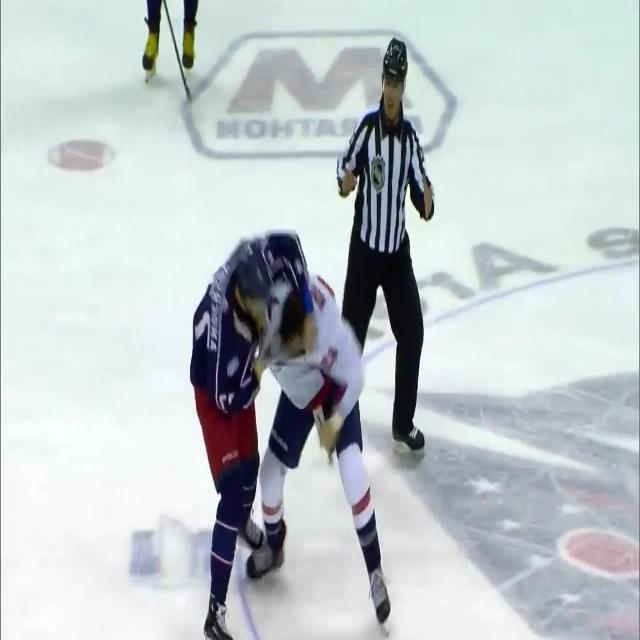non-violence: (338, 38, 437, 454), (139, 0, 204, 86)
violence: (192, 229, 390, 640)
